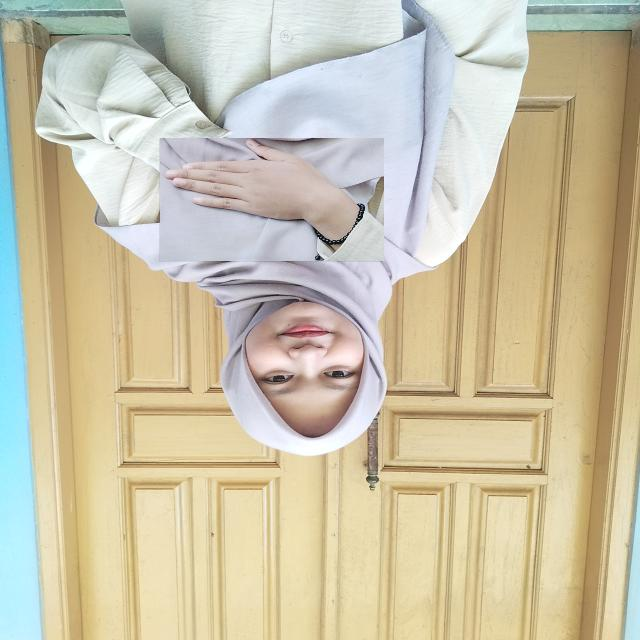tolong: (159, 138, 384, 262)
